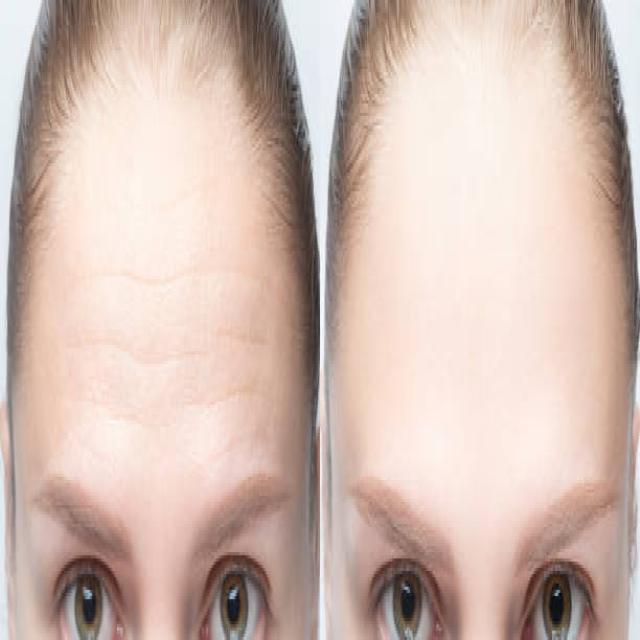Dry-Skin: (60, 159, 260, 489)
